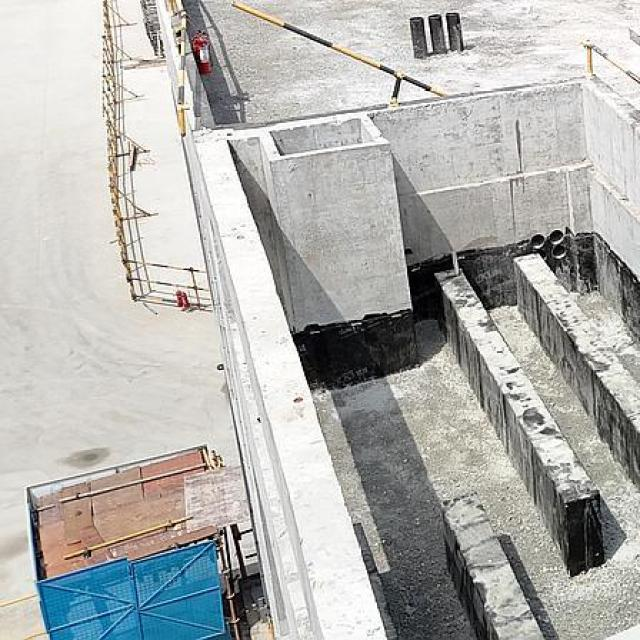Guardrail: (231, 0, 446, 109), (580, 38, 640, 85), (175, 0, 192, 137)
